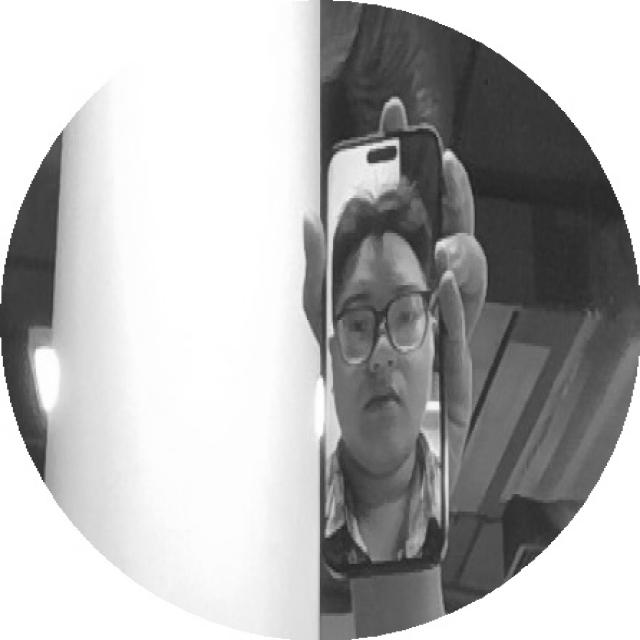fake: (304, 118, 476, 586), (305, 122, 456, 582)
